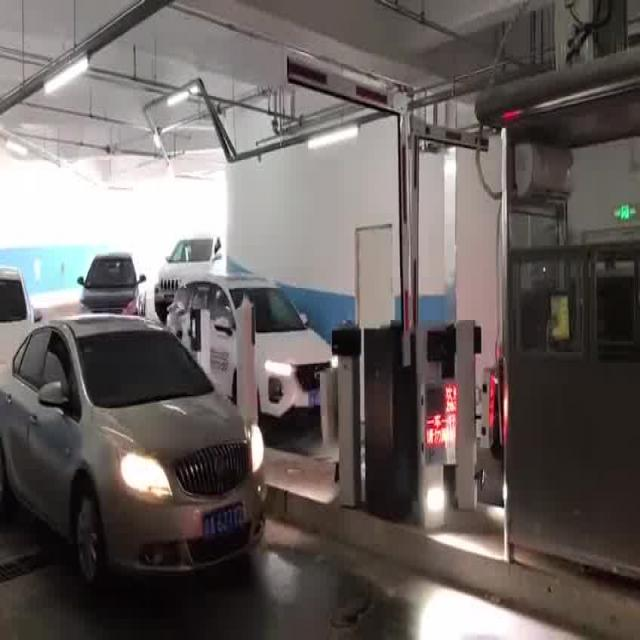CarIn: (1, 293, 279, 583), (158, 276, 336, 417), (1, 241, 44, 392), (154, 227, 235, 305), (72, 246, 145, 322)
GateOpened: (278, 48, 414, 383), (406, 99, 498, 388)
